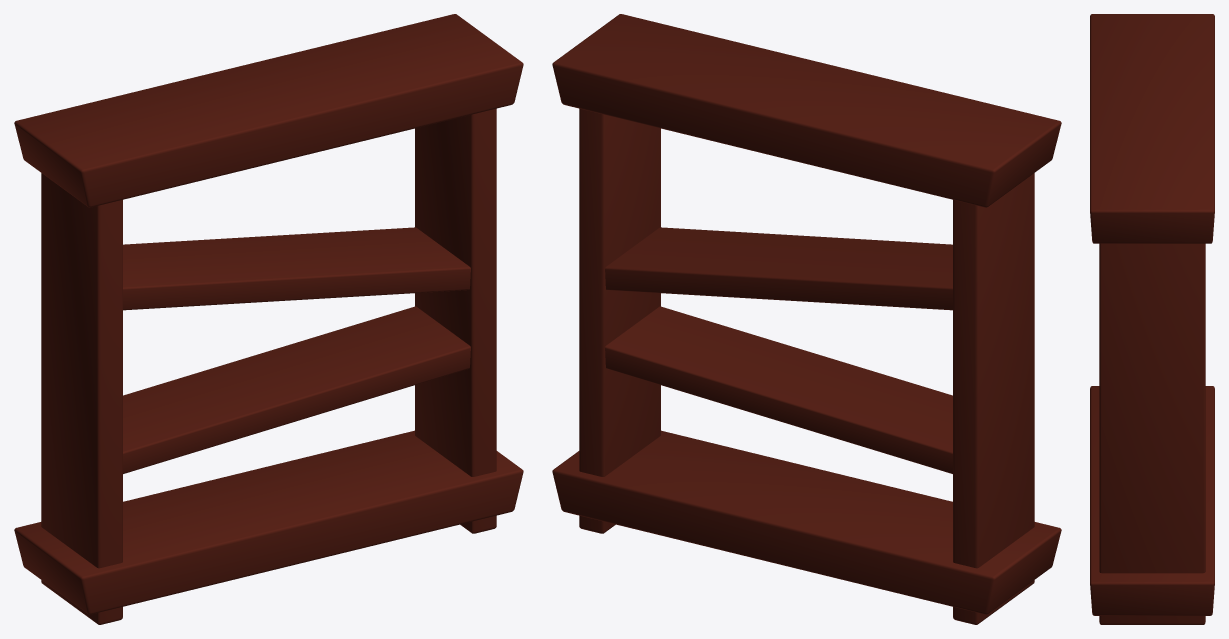
File: bookcaseWide_broken.obj
3 views of the same model, side by side, from view 1: azimuth 30°, elevation 25°; view 2: azimuth 150°, elevation 25°; view 3: azimuth 270°, elevation 25° (orthographic). The views are drawn at different scales.
Parts seen in each view (by area): view 1: bookcaseWide_broken_Cube.4087; view 2: bookcaseWide_broken_Cube.4087; view 3: bookcaseWide_broken_Cube.4087.
Part boxes in pixels (left/top/right/bottom): bookcaseWide_broken_Cube.4087: left=14, top=14, right=523, bottom=624; bookcaseWide_broken_Cube.4087: left=552, top=14, right=1061, bottom=624; bookcaseWide_broken_Cube.4087: left=1090, top=14, right=1214, bottom=624.
Size of the model in its own units: 1.99 by 2 by 0.5333.
